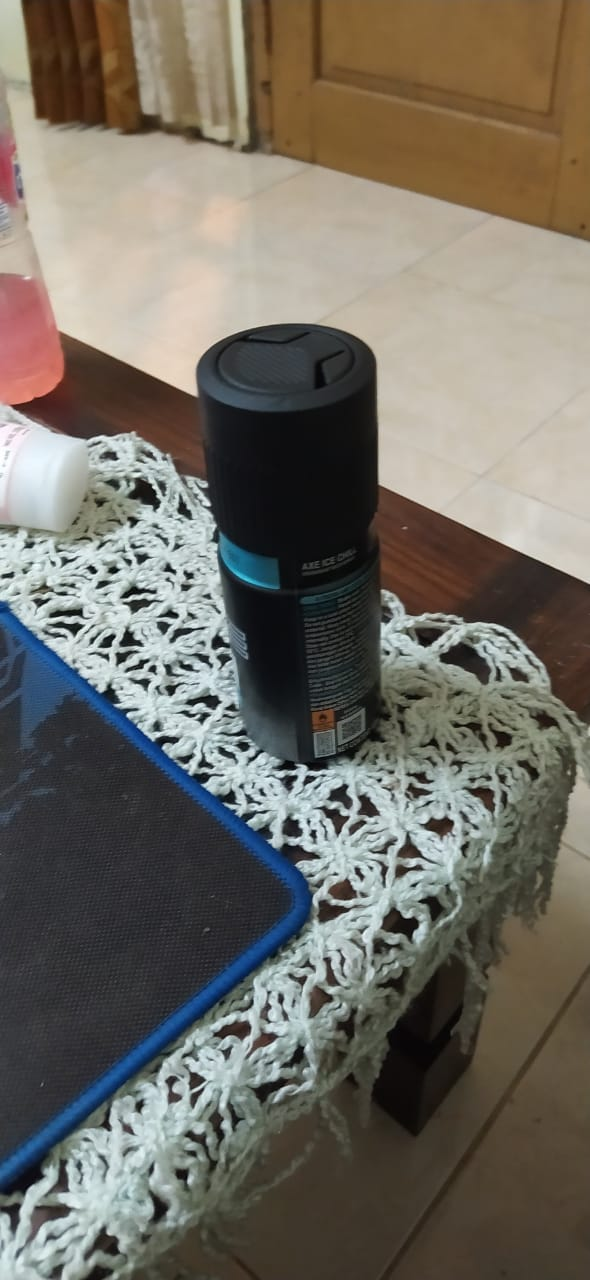axe: (193, 314, 399, 782)
